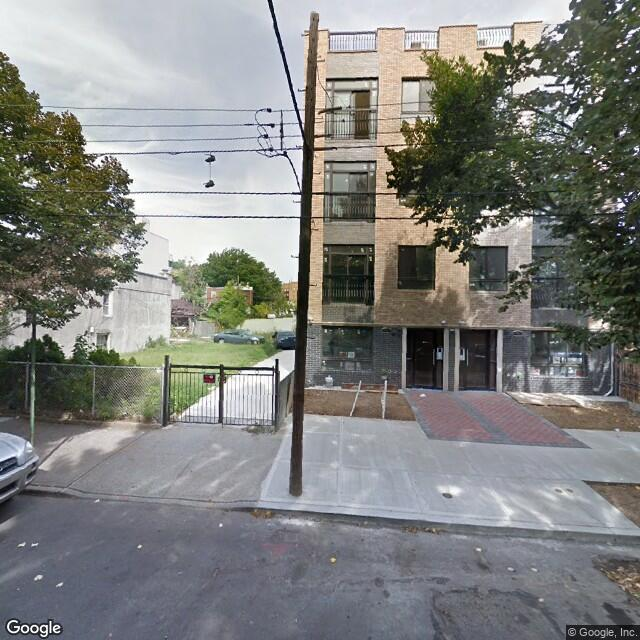litter: (86, 493, 105, 511), (29, 568, 46, 587), (54, 580, 76, 593), (130, 536, 142, 557), (216, 516, 228, 530), (21, 540, 39, 549), (14, 537, 23, 546)
